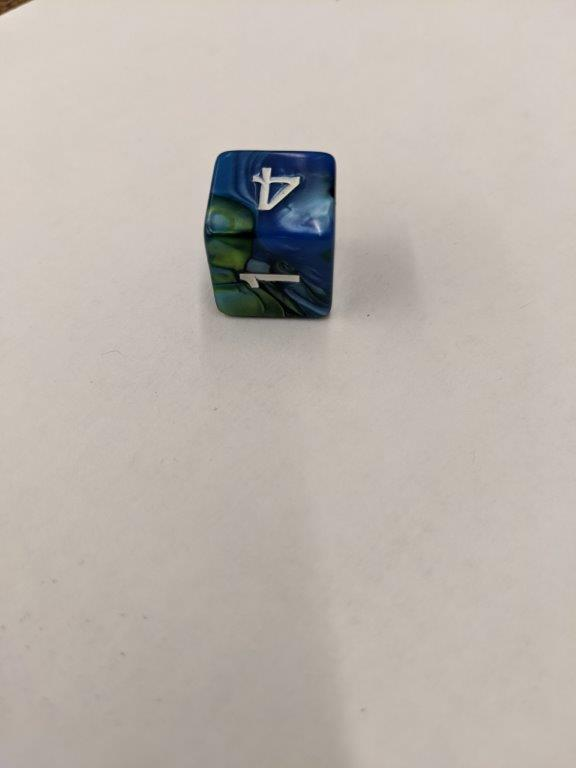d6-4: (202, 149, 339, 325)
